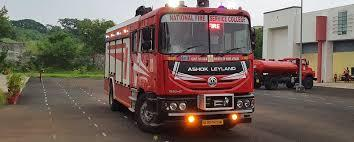Emergency-Vehicles: (101, 7, 257, 129)
